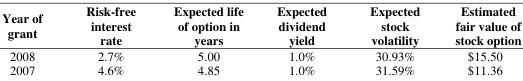table: (1, 1, 520, 77)
table column: (154, 1, 259, 77), (63, 1, 154, 77), (347, 1, 436, 77), (259, 1, 347, 77), (436, 1, 520, 77), (1, 1, 63, 77)
table column header: (1, 1, 520, 47)
table row: (1, 1, 520, 47), (1, 47, 520, 62), (1, 62, 520, 77)
